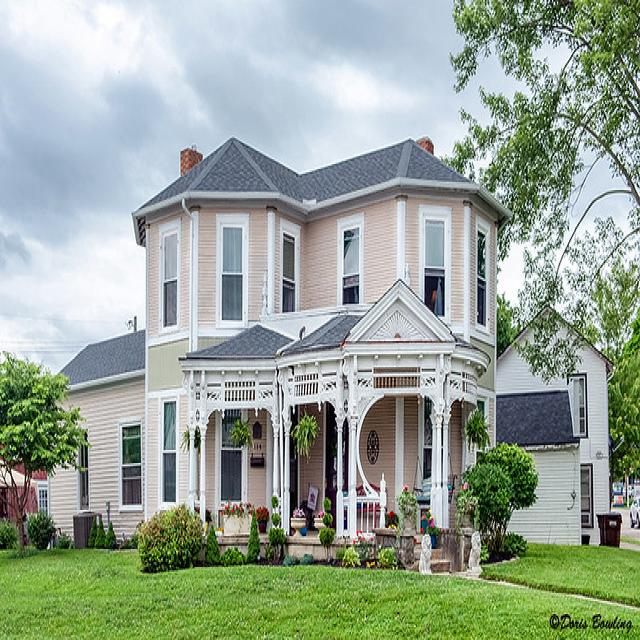Normal_building: (132, 129, 512, 576), (491, 299, 618, 560)
